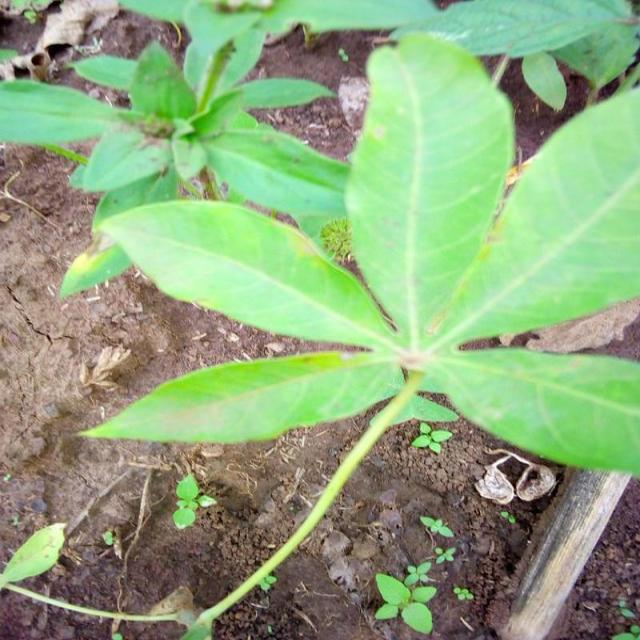cassava leaf: (70, 31, 638, 481), (343, 30, 516, 347)
